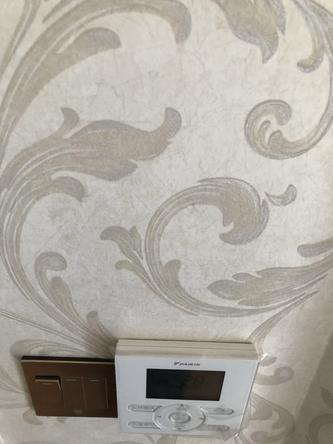switch: (59, 376, 84, 411), (35, 377, 60, 411), (85, 376, 108, 411)
